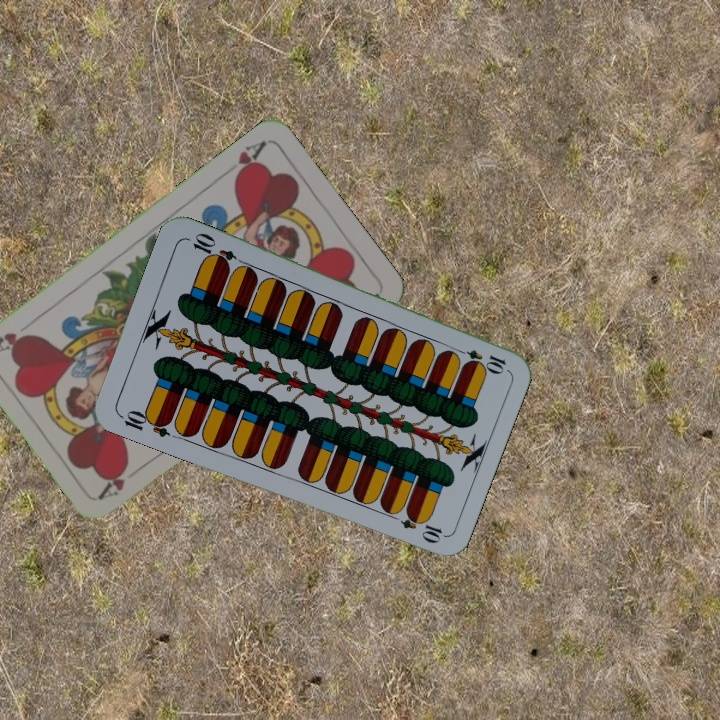E10: (115, 406, 174, 440), (450, 344, 509, 374)
HA: (96, 460, 148, 501), (228, 136, 269, 185)
